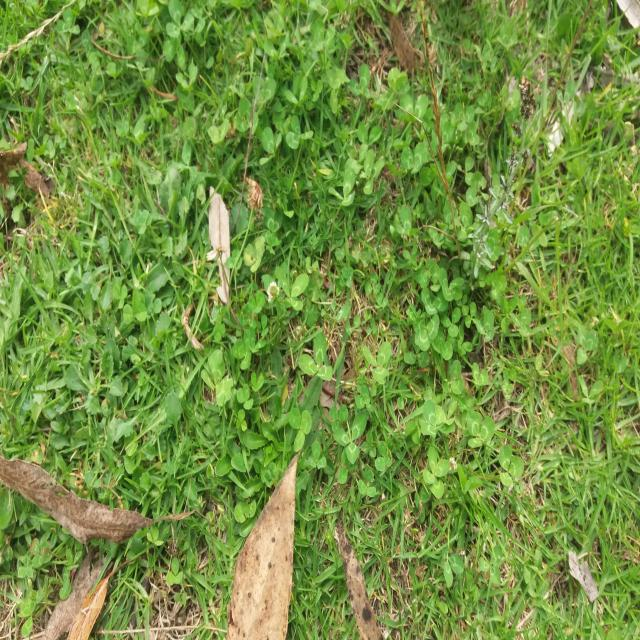Four Leaf Clover: (423, 446, 450, 499), (529, 448, 559, 484)
